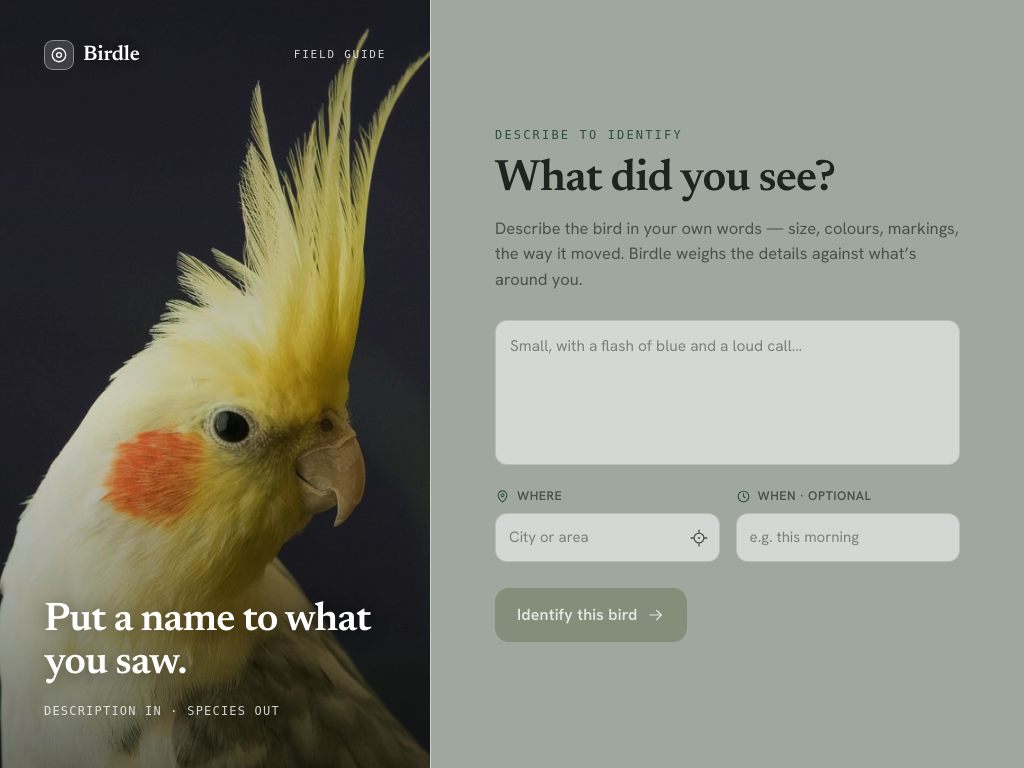
it: Home — HITL conversation flow › shows an error if answered after the session was lost
Type "small red bird with a crest" into the text box named "what did you see" at (728, 393), box [495,320,960,465]
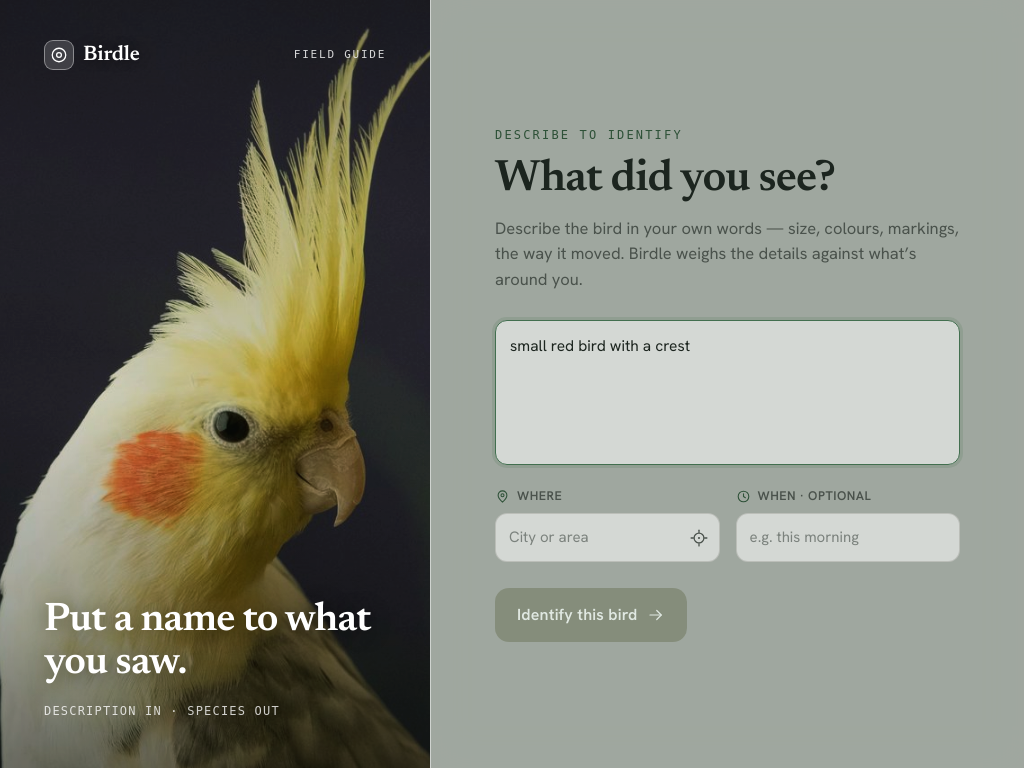
Type "New York" into the field labelled "Where" at (607, 538), box [495,514,720,562]
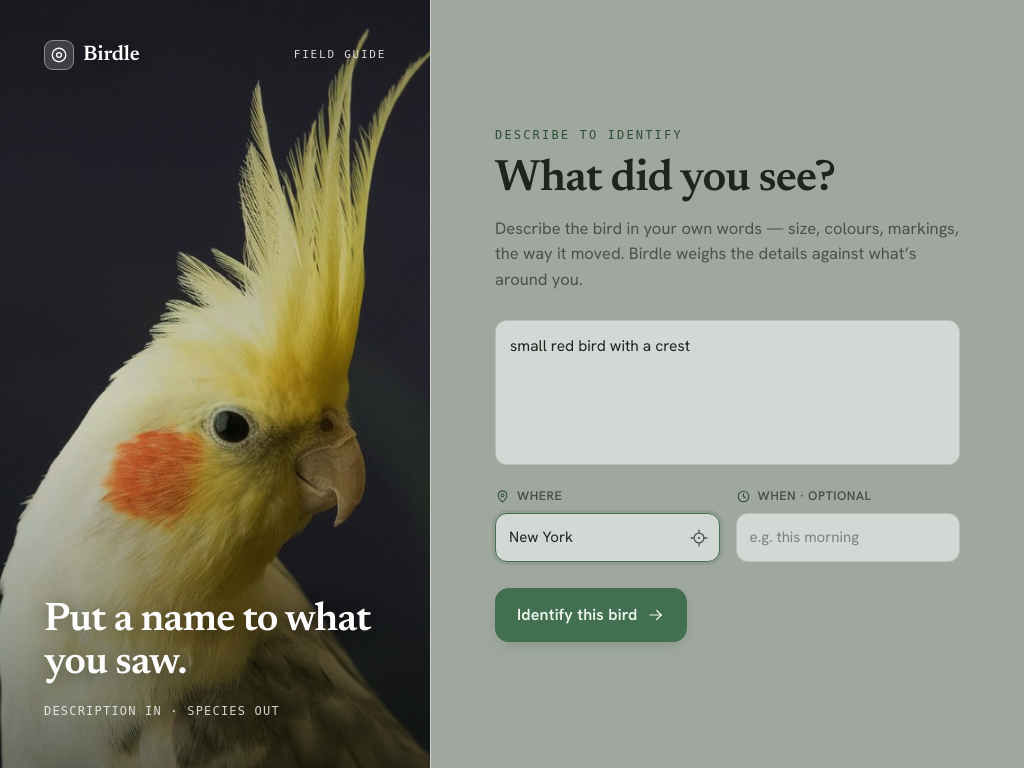
Click the button "Identify this bird" at (591, 615), box [495,588,687,642]
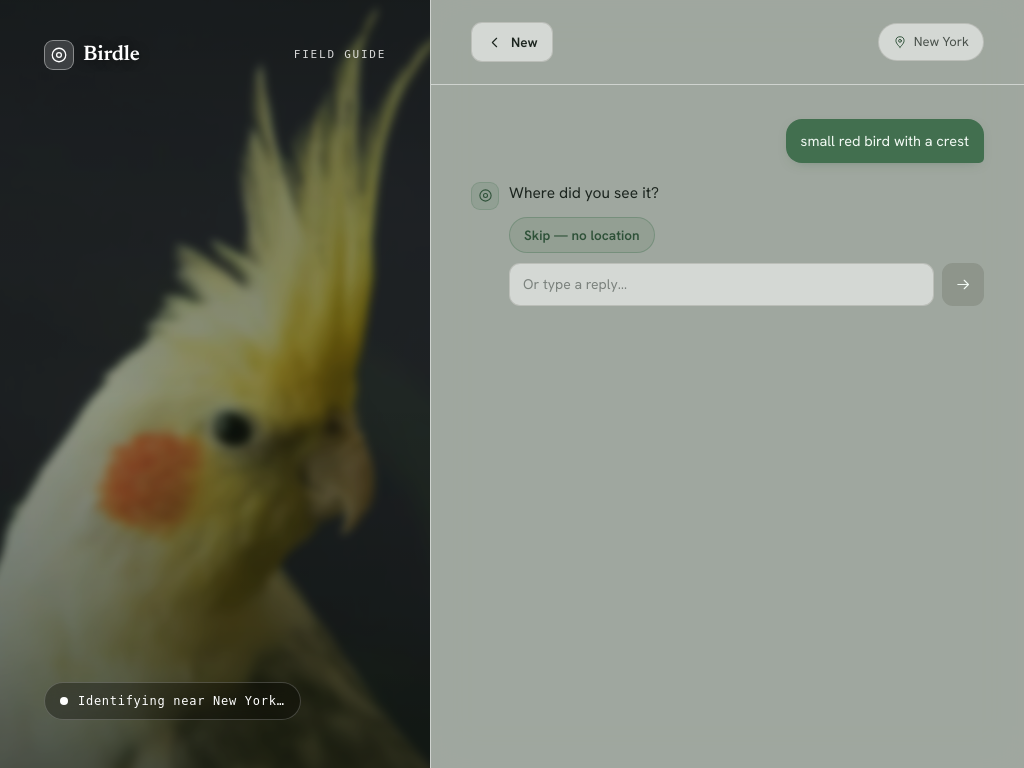
expect the text "Where did you see it?" is shown: met, box [509,182,659,203]
Click the button "Skip — no location" at (582, 235), box [509,217,655,253]
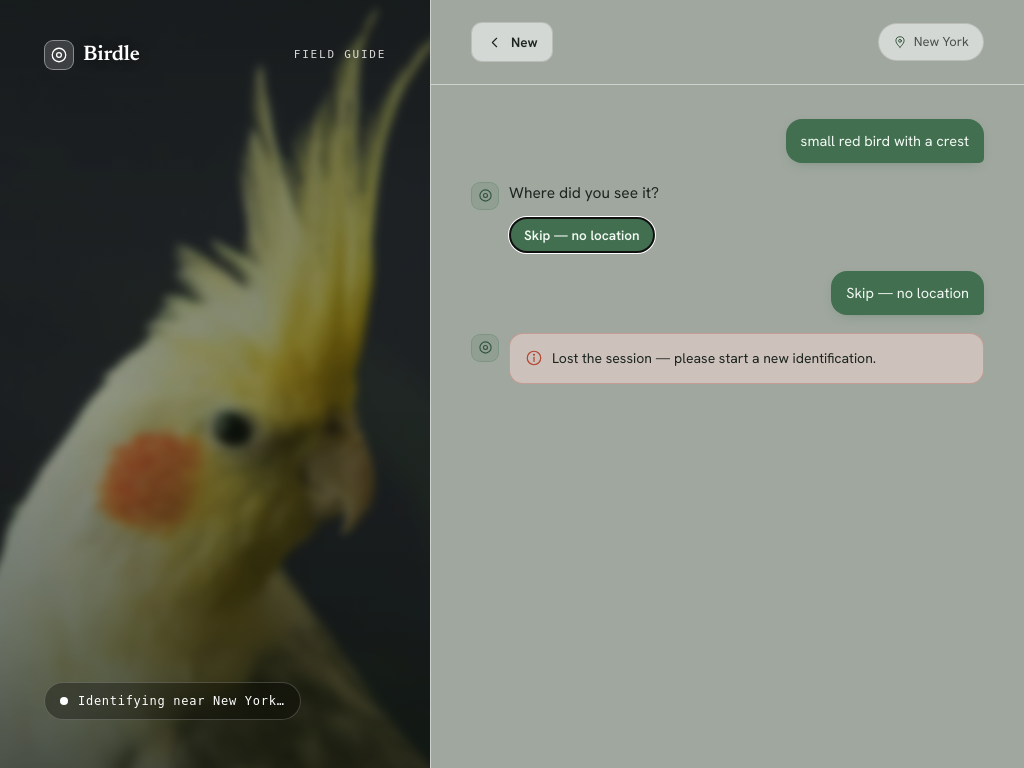
expect the text "Lost the session — please start a new identification." is shown: met, box [552,348,876,369]
